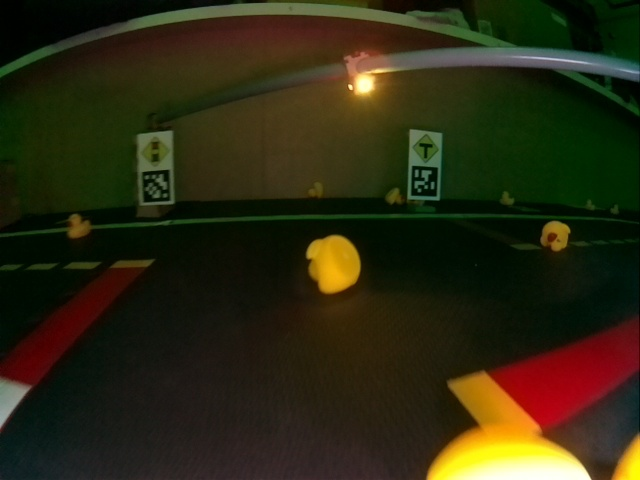Duckie: (306, 236, 360, 293), (542, 221, 570, 251), (66, 215, 90, 238), (385, 189, 403, 205), (309, 182, 323, 198), (500, 192, 514, 205)
Intersection sign: (414, 133, 440, 164)
QR code: (412, 166, 439, 198), (141, 176, 172, 202)
Signal sign: (142, 137, 170, 167)
Traffic light: (346, 51, 372, 95)
